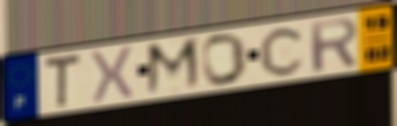C: (258, 25, 308, 78)
M: (144, 34, 204, 98)
O: (200, 32, 249, 88)
R: (306, 15, 360, 74)
T: (41, 52, 83, 110)
X: (89, 44, 136, 106)
